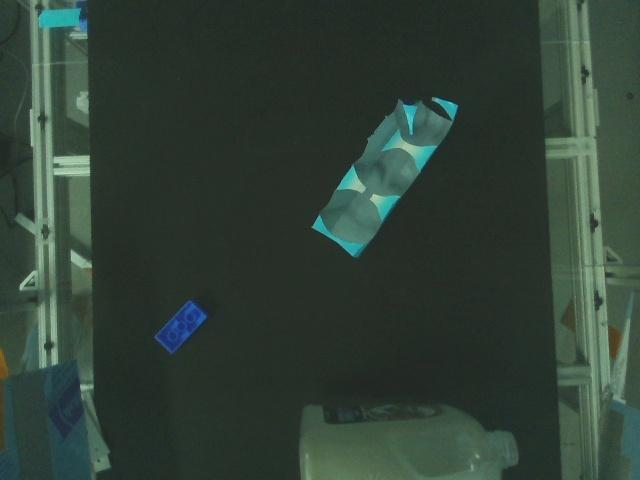cardboard: (307, 92, 461, 261)
plastic: (295, 397, 523, 480), (152, 296, 212, 358)
